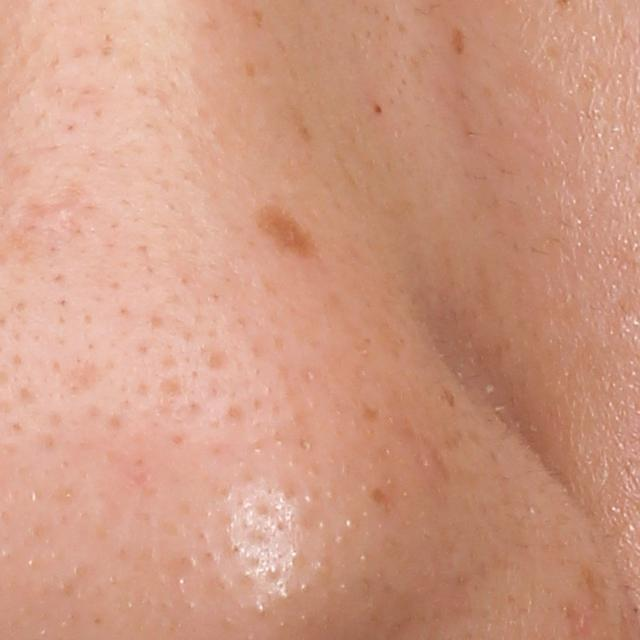melasma: (254, 199, 316, 263), (450, 22, 469, 58)
